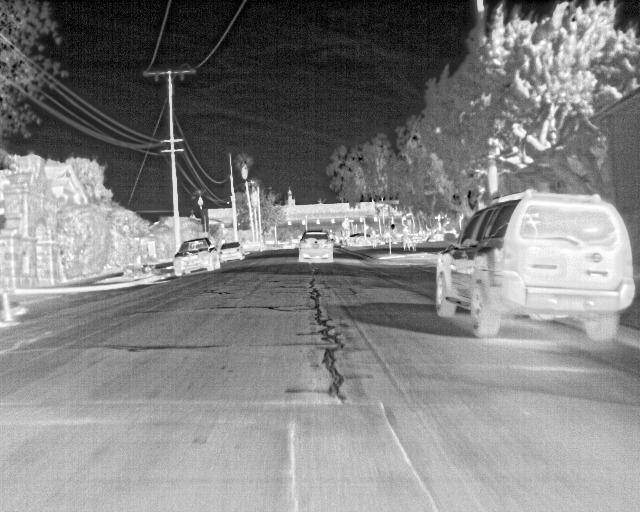car: (434, 186, 636, 342), (171, 235, 222, 278), (297, 227, 335, 265), (220, 241, 245, 262), (280, 238, 295, 250)
